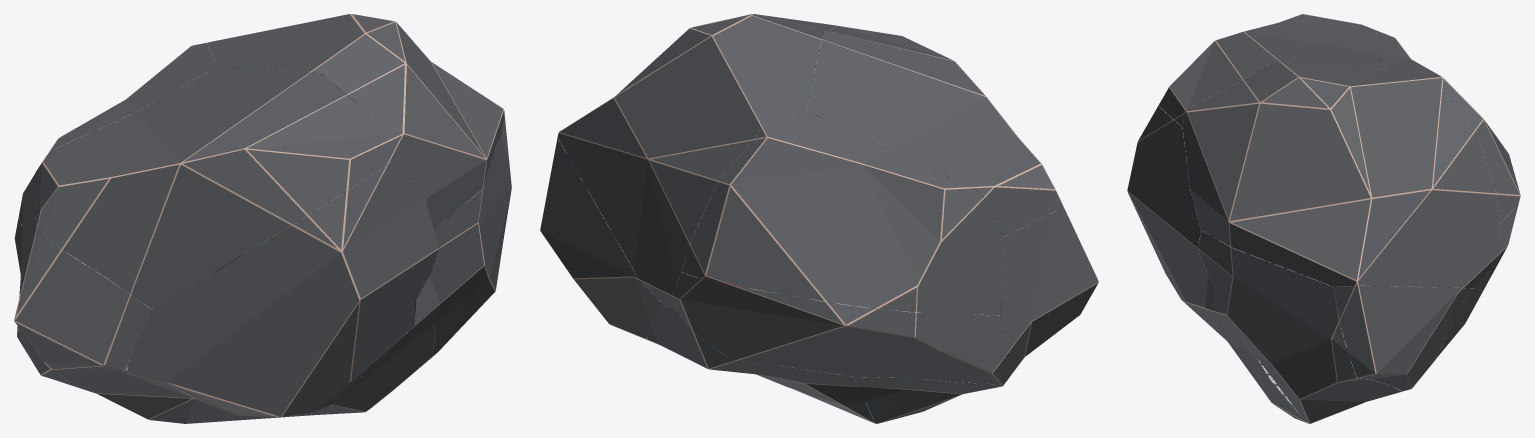
Rendered from batuKecil3_FRAC.fbx.
3 views of the same model, side by side, from view 1: azimuth 30°, elevation 25°; view 2: azimuth 150°, elevation 25°; view 3: azimuth 270°, elevation 25° (orthographic). The views are drawn at different scales.
Parts seen in each view (by area): view 1: Cube.039_cell.001, Cube.039_cell.002, Cube.039_cell.009, Cube.039_cell.004, Cube.039_cell.003, Cube.039_cell.006, Cube.039_cell.005, Cube.039_cell.008, Cube.039_cell.007; view 2: Cube.039_cell.008, Cube.039_cell.009, Cube.039_cell.001, Cube.039_cell.007, Cube.039_cell.004, Cube.039_cell, Cube.039_cell.006, Cube.039_cell.005; view 3: Cube.039_cell.009, Cube.039_cell.003, Cube.039_cell, Cube.039_cell.001, Cube.039_cell.002, Cube.039_cell.008, Cube.039_cell.006, Cube.039_cell.007.
Boxes of the visible parts, x1=… form: Cube.039_cell.001: x1=34, y1=66, x2=401, y2=309; Cube.039_cell.002: x1=127, y1=155, x2=438, y2=417; Cube.039_cell.009: x1=207, y1=14, x2=504, y2=228; Cube.039_cell.004: x1=14, y1=216, x2=152, y2=376; Cube.039_cell.003: x1=429, y1=137, x2=511, y2=357; Cube.039_cell.006: x1=190, y1=277, x2=440, y2=423; Cube.039_cell.005: x1=46, y1=349, x2=340, y2=423; Cube.039_cell.008: x1=18, y1=42, x2=217, y2=281; Cube.039_cell.007: x1=14, y1=217, x2=30, y2=358; Cube.039_cell.008: x1=681, y1=111, x2=1003, y2=315; Cube.039_cell.009: x1=557, y1=14, x2=837, y2=308; Cube.039_cell.001: x1=806, y1=26, x2=1063, y2=237; Cube.039_cell.007: x1=673, y1=272, x2=1005, y2=383; Cube.039_cell.004: x1=992, y1=207, x2=1098, y2=386; Cube.039_cell: x1=540, y1=138, x2=663, y2=339; Cube.039_cell.006: x1=646, y1=306, x2=875, y2=423; Cube.039_cell.005: x1=854, y1=377, x2=999, y2=423; Cube.039_cell.009: x1=1182, y1=63, x2=1500, y2=288; Cube.039_cell.003: x1=1197, y1=230, x2=1402, y2=423; Cube.039_cell: x1=1334, y1=286, x2=1472, y2=391; Cube.039_cell.001: x1=1158, y1=14, x2=1381, y2=126; Cube.039_cell.002: x1=1127, y1=106, x2=1224, y2=338; Cube.039_cell.008: x1=1376, y1=30, x2=1520, y2=223; Cube.039_cell.006: x1=1205, y1=271, x2=1489, y2=422; Cube.039_cell.007: x1=1488, y1=149, x2=1518, y2=280.
Size of the model in its own units: 347 by 229 by 241.
